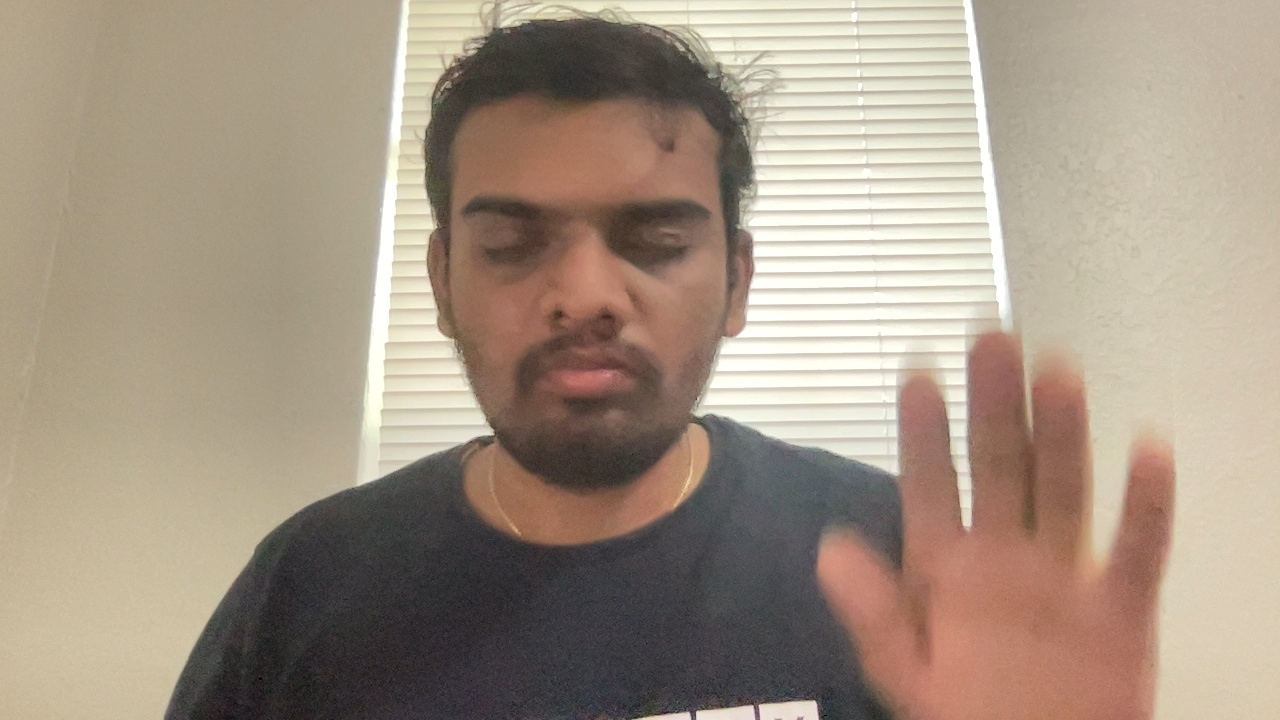hello: (808, 298, 1185, 716)
